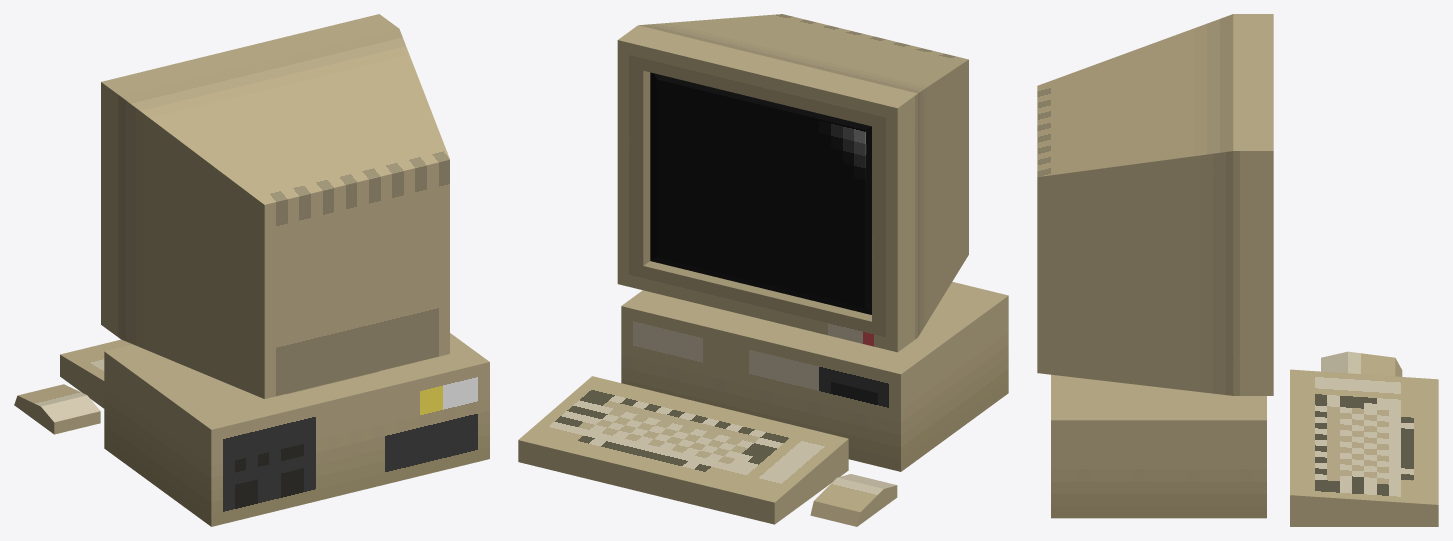
Rendered from old_pc.gltf.
3 renders of one model, left to right at view 1: azimuth 30°, elevation 25°; view 2: azimuth 150°, elevation 25°; view 3: azimuth 270°, elevation 25°, orthographic.
Visible parts, largest first — view 1: pc; view 2: pc; view 3: pc.
Part boxes in pixels (left/top/right/bottom): pc: left=14, top=14, right=489, bottom=526; pc: left=518, top=14, right=1008, bottom=526; pc: left=1037, top=14, right=1438, bottom=526.
Size of the model in its own units: 0.8594 by 0.9375 by 0.9281.
1 material, 1 textured.
